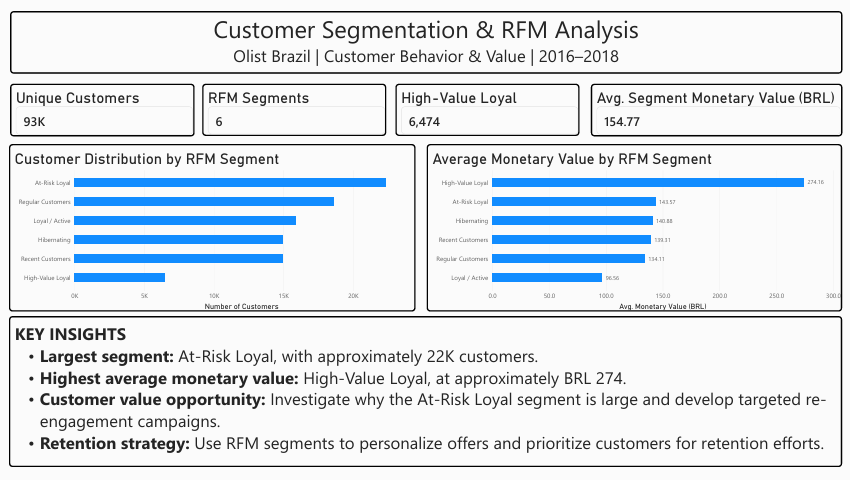

The dashboard page shown, as its layout file describes it:
{"tool":"powerbi","page":{"name":"Customer Segmentation","canvas":[1920,1080],"ordinal":2},"visuals":[{"type":"textbox","box":[26.7,26.7,1863,140],"z":0},{"type":"clusteredBarChart","title":"Customer Distribution by RFM Segment","fields":{"Category":["rfm_segment_summary.segment"],"Y":["Sum(rfm_segment_summary.customer_count)"]},"box":[25,325,910,375],"z":1},{"type":"cardVisual","title":"Unique Customers","fields":{"Data":["Sum(rfm_segment_summary.customer_count)"]},"box":[27.5,190,412.5,117.5],"z":2},{"type":"cardVisual","title":"RFM Segments","fields":{"Data":["Count(rfm_segment_summary.segment)"]},"box":[457.5,190,412,116.7],"z":3},{"type":"cardVisual","title":"High-Value Loyal","fields":{"Data":["customer_rfm_segments.High-Value Loyal Customers1"]},"box":[890,190,412,116.7],"z":4},{"type":"cardVisual","title":"Avg. Segment Monetary Value (BRL)","fields":{"Data":["customer_rfm_segments.Average Customer Monetary Value"]},"box":[1327.5,190,562.5,117.5],"z":5},{"type":"clusteredBarChart","title":"Average Monetary Value by RFM Segment","fields":{"Category":["rfm_segment_summary.segment"],"Y":["Avg(rfm_segment_summary.average_monetary)"]},"box":[960,325,930,375],"z":6},{"type":"textbox","box":[25,710,1865,352.5],"z":7}]}

Visuals, with their boxes in screenshot pixels (x1, y1, x2, y2), scaled from the page's 1920x1080 canvas onto the 850x480 screenshot:
textbox: [12,12,837,74]
"Customer Distribution by RFM Segment" clusteredBarChart: [11,144,414,311]
"Unique Customers" cardVisual: [12,84,195,137]
"RFM Segments" cardVisual: [203,84,385,136]
"High-Value Loyal" cardVisual: [394,84,576,136]
"Avg. Segment Monetary Value (BRL)" cardVisual: [588,84,837,137]
"Average Monetary Value by RFM Segment" clusteredBarChart: [425,144,837,311]
textbox: [11,316,837,472]
